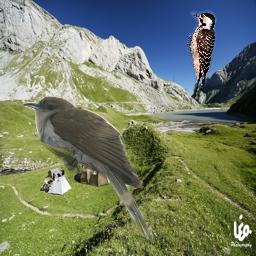Cuckoo: (23, 96, 154, 245)
Woodpecker: (187, 10, 217, 101)
